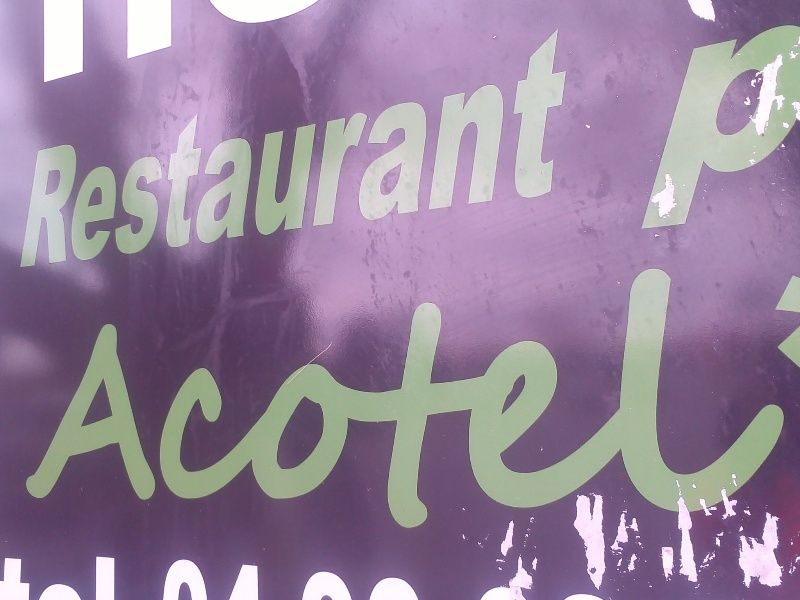text: (33, 253, 48, 532), (49, 253, 64, 532), (65, 253, 80, 532), (81, 253, 96, 532), (97, 253, 112, 532), (113, 253, 128, 532), (129, 253, 144, 532), (145, 253, 160, 532), (161, 253, 176, 532), (177, 253, 192, 532), (193, 253, 208, 532), (209, 253, 224, 532), (225, 253, 240, 532), (241, 253, 256, 532), (257, 253, 272, 532), (273, 253, 288, 532), (289, 253, 304, 532), (305, 253, 320, 532), (321, 253, 336, 532), (337, 253, 352, 532), (353, 253, 368, 532), (369, 253, 384, 532), (385, 253, 400, 532), (401, 253, 416, 532), (417, 253, 432, 532), (433, 253, 448, 532), (449, 253, 464, 532), (465, 253, 480, 532), (481, 253, 496, 532), (497, 253, 512, 532), (513, 253, 528, 532), (529, 253, 544, 532), (545, 253, 560, 532), (561, 253, 576, 532), (577, 253, 592, 532), (593, 253, 608, 532), (609, 253, 624, 532), (625, 253, 640, 532), (641, 253, 656, 532), (657, 253, 672, 532), (673, 253, 688, 532), (689, 253, 704, 532), (705, 253, 720, 532), (721, 253, 736, 532), (737, 253, 752, 532), (753, 253, 768, 532), (769, 253, 784, 532), (49, 25, 64, 270), (65, 25, 80, 270), (81, 25, 96, 270), (97, 25, 112, 270), (113, 25, 128, 270), (129, 25, 144, 270), (145, 25, 160, 270), (161, 25, 176, 270), (177, 25, 192, 270), (193, 25, 208, 270), (209, 25, 224, 270), (225, 25, 240, 270), (241, 25, 256, 270), (257, 25, 272, 270), (273, 25, 288, 270), (289, 25, 304, 270), (305, 25, 320, 270), (321, 25, 336, 270), (337, 25, 352, 270), (353, 25, 368, 270), (369, 25, 384, 270), (385, 25, 400, 270), (401, 25, 416, 270), (417, 25, 432, 270), (433, 25, 448, 270), (449, 25, 464, 270), (465, 25, 480, 270), (481, 25, 496, 270), (497, 25, 512, 270), (513, 25, 528, 270), (529, 25, 544, 270), (545, 25, 560, 270), (561, 25, 575, 270), (641, 23, 656, 231), (657, 23, 672, 231), (673, 23, 688, 231), (689, 23, 704, 231), (705, 23, 720, 231), (721, 23, 736, 231), (737, 23, 752, 231), (753, 23, 768, 231), (769, 23, 784, 231), (785, 23, 800, 231), (37, 25, 48, 270), (49, 1, 64, 84), (65, 1, 80, 84), (81, 1, 96, 84), (97, 1, 112, 84), (113, 1, 128, 84), (129, 1, 144, 84), (145, 1, 160, 84), (161, 1, 176, 84), (177, 1, 192, 84), (193, 1, 208, 84), (209, 1, 224, 84), (225, 1, 240, 84), (241, 1, 256, 84), (257, 1, 272, 84), (273, 1, 288, 84), (289, 1, 304, 84), (305, 1, 320, 84), (321, 1, 336, 84), (17, 543, 32, 600), (33, 543, 48, 600), (49, 543, 64, 600), (65, 543, 80, 600), (81, 543, 96, 600), (97, 543, 112, 600), (113, 543, 128, 600), (129, 543, 144, 600), (145, 543, 160, 600), (161, 543, 176, 600), (177, 543, 192, 600), (193, 543, 208, 600), (209, 543, 224, 600), (225, 543, 240, 600), (241, 543, 256, 600), (257, 543, 272, 600), (273, 543, 288, 600), (289, 543, 304, 600), (305, 543, 320, 600), (321, 543, 336, 600), (337, 543, 352, 600), (353, 543, 368, 600), (369, 543, 384, 600), (385, 543, 400, 600), (401, 543, 416, 600), (417, 543, 432, 600), (433, 543, 448, 600), (449, 543, 464, 600), (465, 543, 480, 600), (481, 543, 496, 600), (497, 543, 512, 600), (513, 543, 528, 600), (529, 543, 544, 600), (545, 543, 560, 600), (561, 543, 576, 600), (577, 543, 592, 600), (593, 543, 608, 600), (2, 543, 16, 600), (41, 1, 48, 84), (785, 253, 787, 532), (337, 1, 343, 84), (31, 253, 32, 532), (639, 23, 640, 231)
